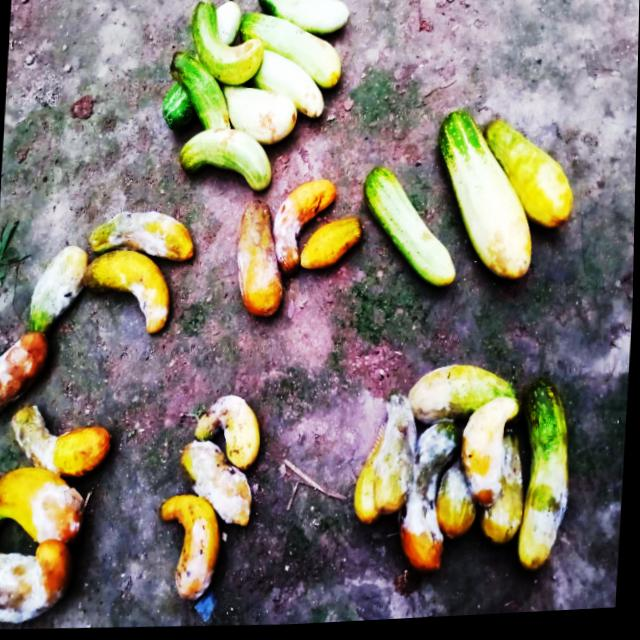Pythium-Fruit-Rot: (404, 425, 459, 554), (188, 440, 259, 526), (375, 386, 428, 488), (28, 243, 90, 324), (30, 472, 93, 545), (0, 541, 52, 628), (107, 204, 179, 266), (13, 400, 69, 471), (486, 449, 531, 532), (533, 472, 572, 556), (235, 239, 285, 304), (179, 523, 220, 599), (471, 444, 513, 511), (0, 334, 32, 418), (124, 276, 176, 325), (209, 393, 255, 445), (273, 195, 305, 265), (417, 370, 460, 422), (438, 460, 475, 515)
